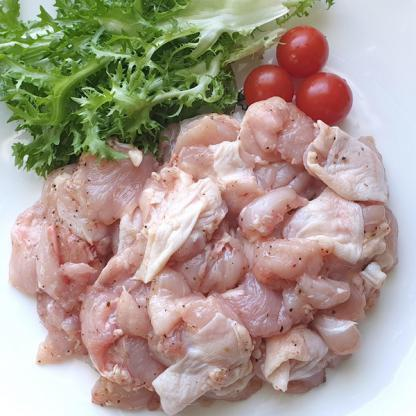chicken: (238, 98, 397, 206), (78, 253, 160, 413), (127, 165, 228, 283), (58, 134, 160, 248), (5, 180, 92, 301), (164, 298, 252, 406), (162, 123, 263, 216), (235, 222, 344, 301), (205, 271, 314, 349), (179, 227, 254, 301), (257, 338, 336, 398), (305, 322, 369, 354)
